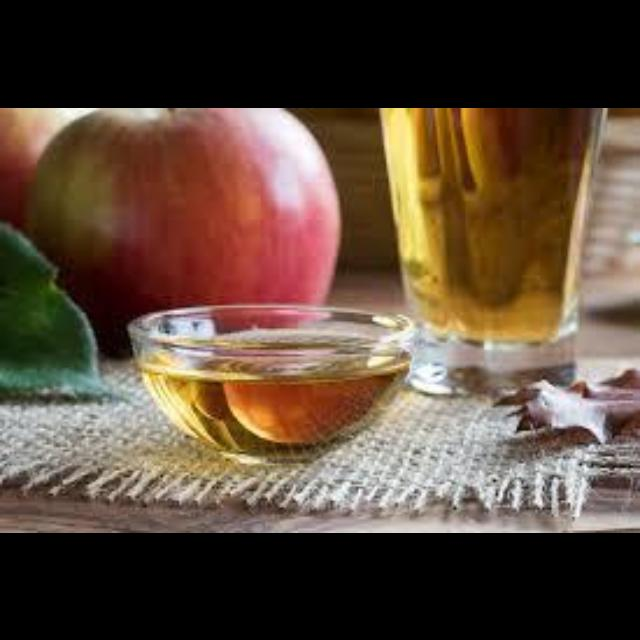apple: (26, 107, 337, 351)
